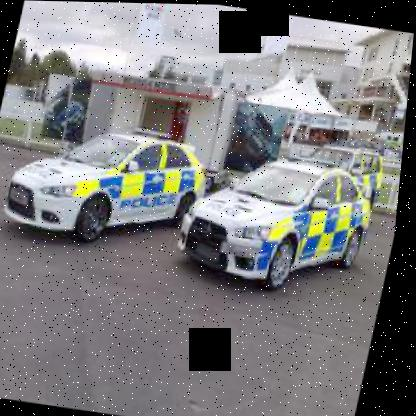emergency: (155, 130, 405, 353), (0, 103, 232, 279)
